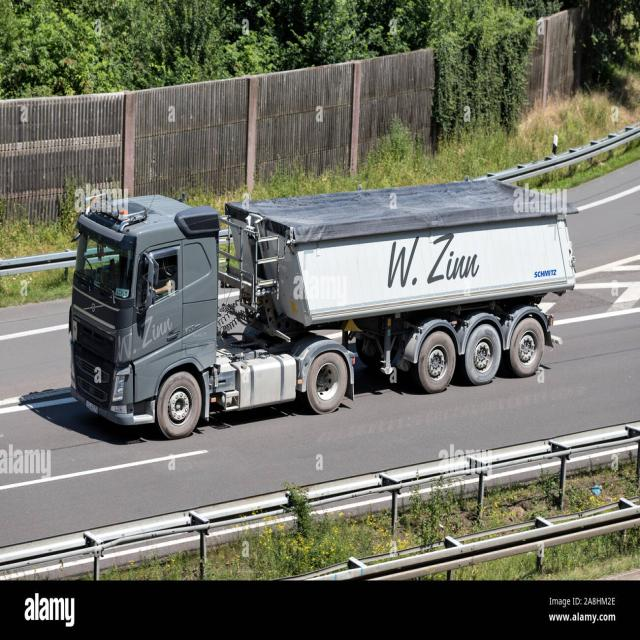dump_truck: (62, 174, 596, 432)
